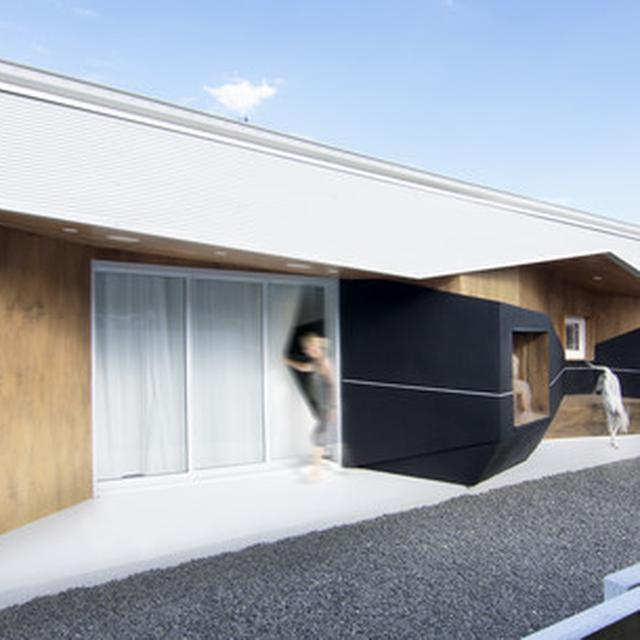building: (0, 54, 640, 518)
